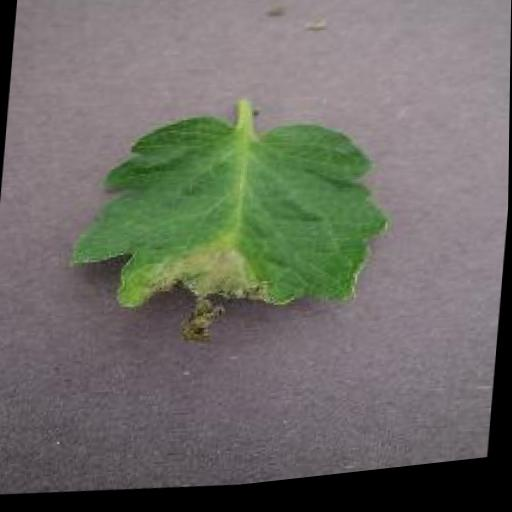Late Blight: (63, 94, 403, 375)
